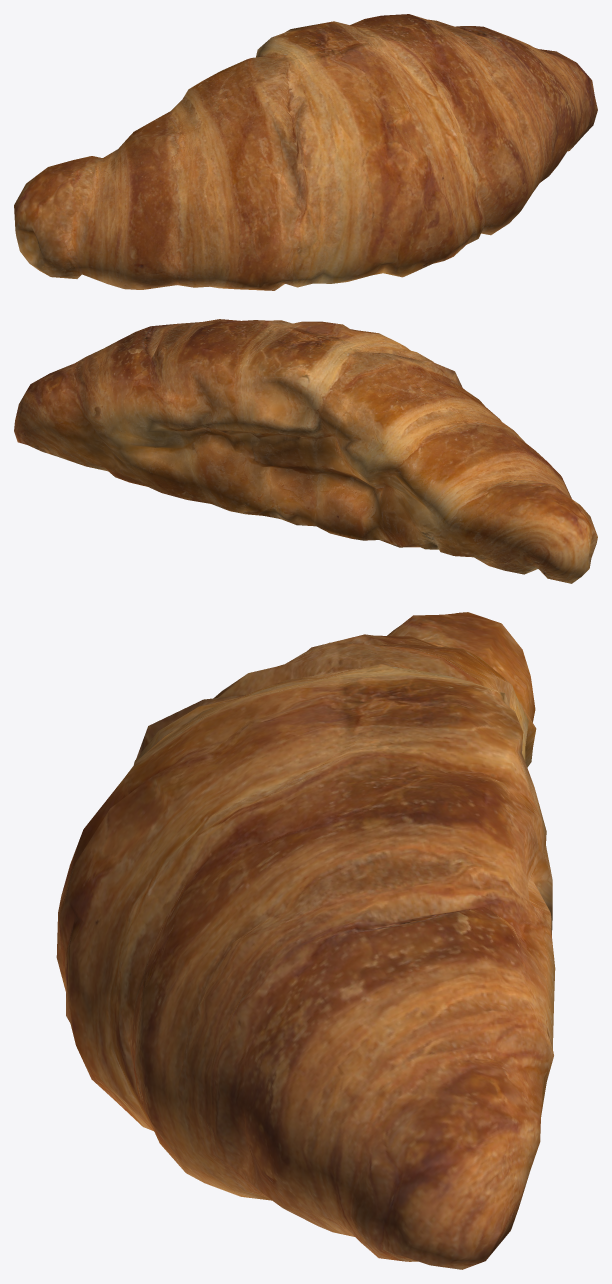
File: defaul2.glb
The picture shows the model from 3 angles, top to bottom: view 1: azimuth 30°, elevation 25°; view 2: azimuth 150°, elevation 25°; view 3: azimuth 270°, elevation 25°; orthographic projection. The views are drawn at different scales.
Visible parts, largest first — view 1: croissant; view 2: croissant; view 3: croissant.
Boxes of the visible parts, bbox=[...] form: croissant: bbox=[14, 14, 597, 290]; croissant: bbox=[14, 319, 597, 583]; croissant: bbox=[56, 612, 555, 1269].
Size of the model in its own units: 0.2 by 0.062 by 0.0755.
1 material, 1 textured.
